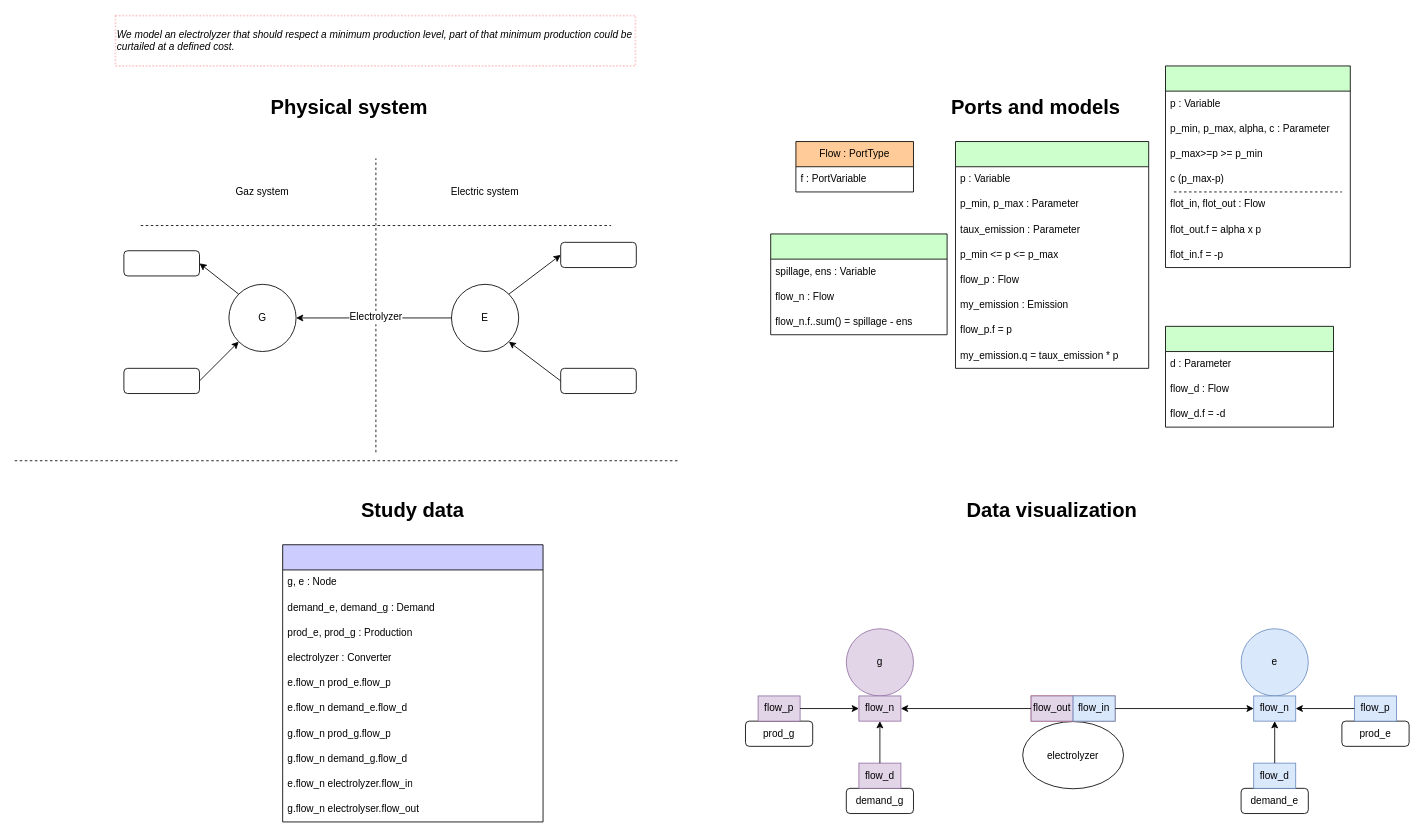
The diagram is 1424 pixels wide and 837 high, and some of its shapes have lost their labels. Here are the shapes that lost their labels. From the top down, the box of each, then its label:
(1165, 65, 1350, 268): Converter : Model
(123, 250, 200, 276): Gaz demand
(560, 242, 636, 268): Elec demand
(955, 141, 1149, 368): Production : Model
(770, 233, 947, 335): Node : Model
(123, 368, 200, 394): Gaz production
(560, 368, 636, 394): Elec production
(1165, 326, 1334, 427): Demand : Model
(282, 544, 543, 822): File "network.txt"
